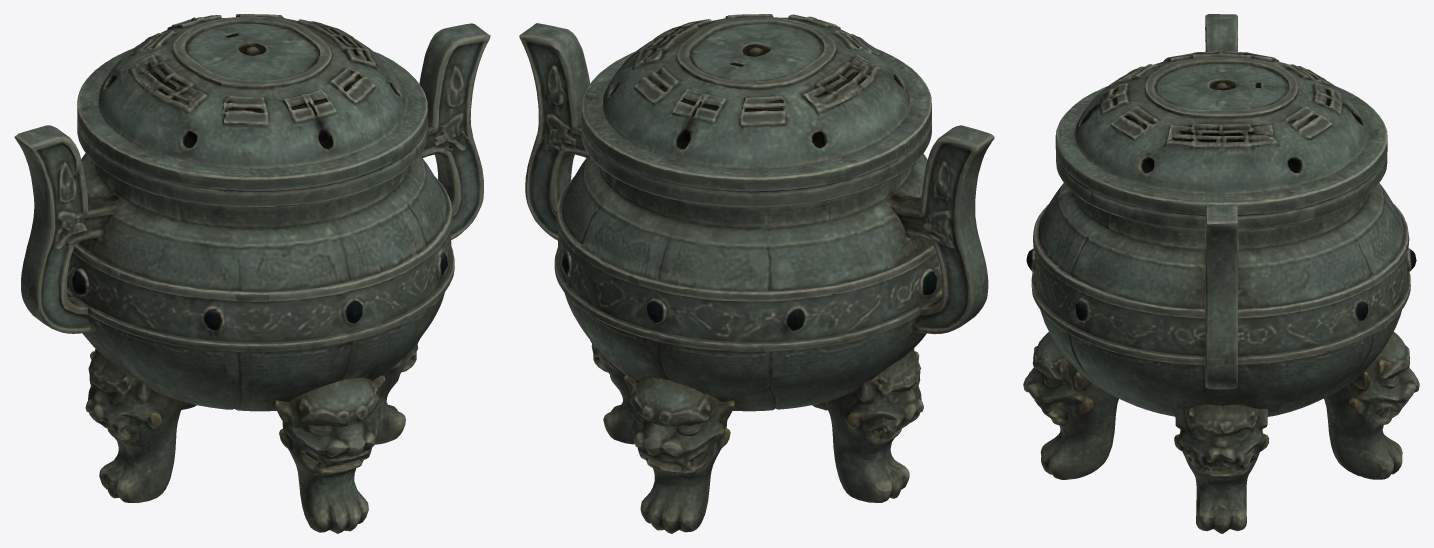
File: alchemy.glb
The picture shows the model from 3 angles, left to right: view 1: azimuth 30°, elevation 25°; view 2: azimuth 150°, elevation 25°; view 3: azimuth 270°, elevation 25°; orthographic projection. The views are drawn at different scales.
Parts seen in each view (by area): view 1: world; view 2: world; view 3: world.
Part boxes in pixels (box(x1,y1,x2,y2)): world: box(14, 14, 490, 533); world: box(519, 14, 994, 533); world: box(1023, 14, 1419, 533).
Size of the model in its own units: 0.35 by 0.3034 by 0.2804.
Materials: 1 (1 with a texture image).
